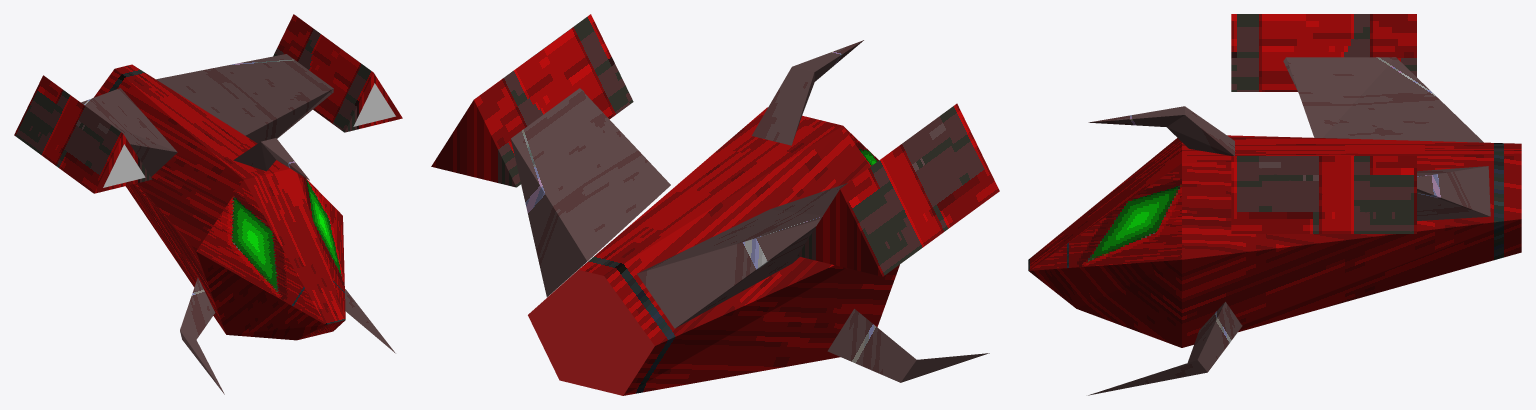
File: model_060_robot_noname.glb
3 renders of one model, left to right at view 1: azimuth 30°, elevation 25°; view 2: azimuth 150°, elevation 25°; view 3: azimuth 270°, elevation 25°, orthographic. The views are drawn at different scales.
Parts seen in each view (by area): view 1: model_060; view 2: model_060; view 3: model_060.
Part boxes in pixels (x1,y1,x2,y2): model_060: [14, 14, 402, 394]; model_060: [431, 14, 999, 395]; model_060: [1028, 14, 1521, 395].
Size of the model in its own units: 8.4 by 5.88 by 10.
Materials: 6 (5 with a texture image).
